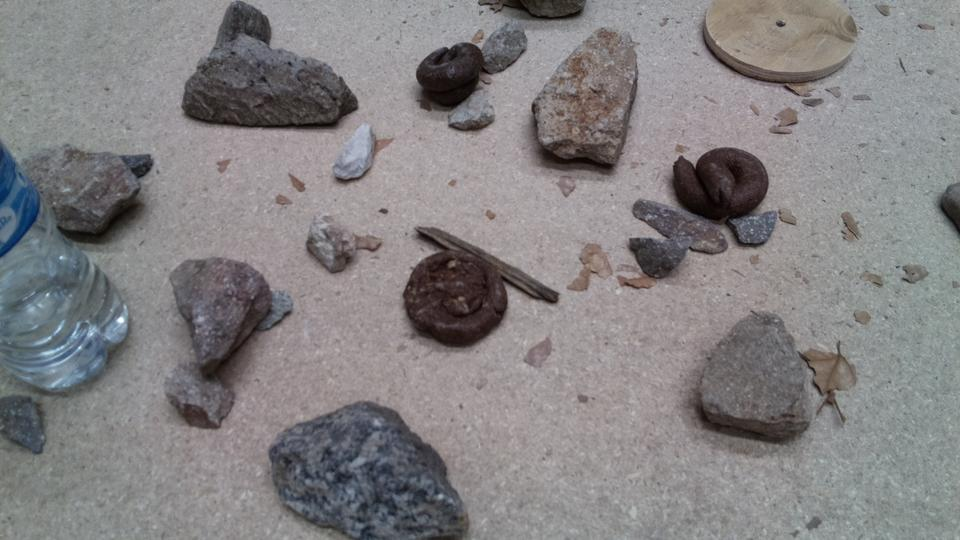poop: (398, 246, 511, 350), (670, 146, 770, 222), (414, 39, 485, 111)
